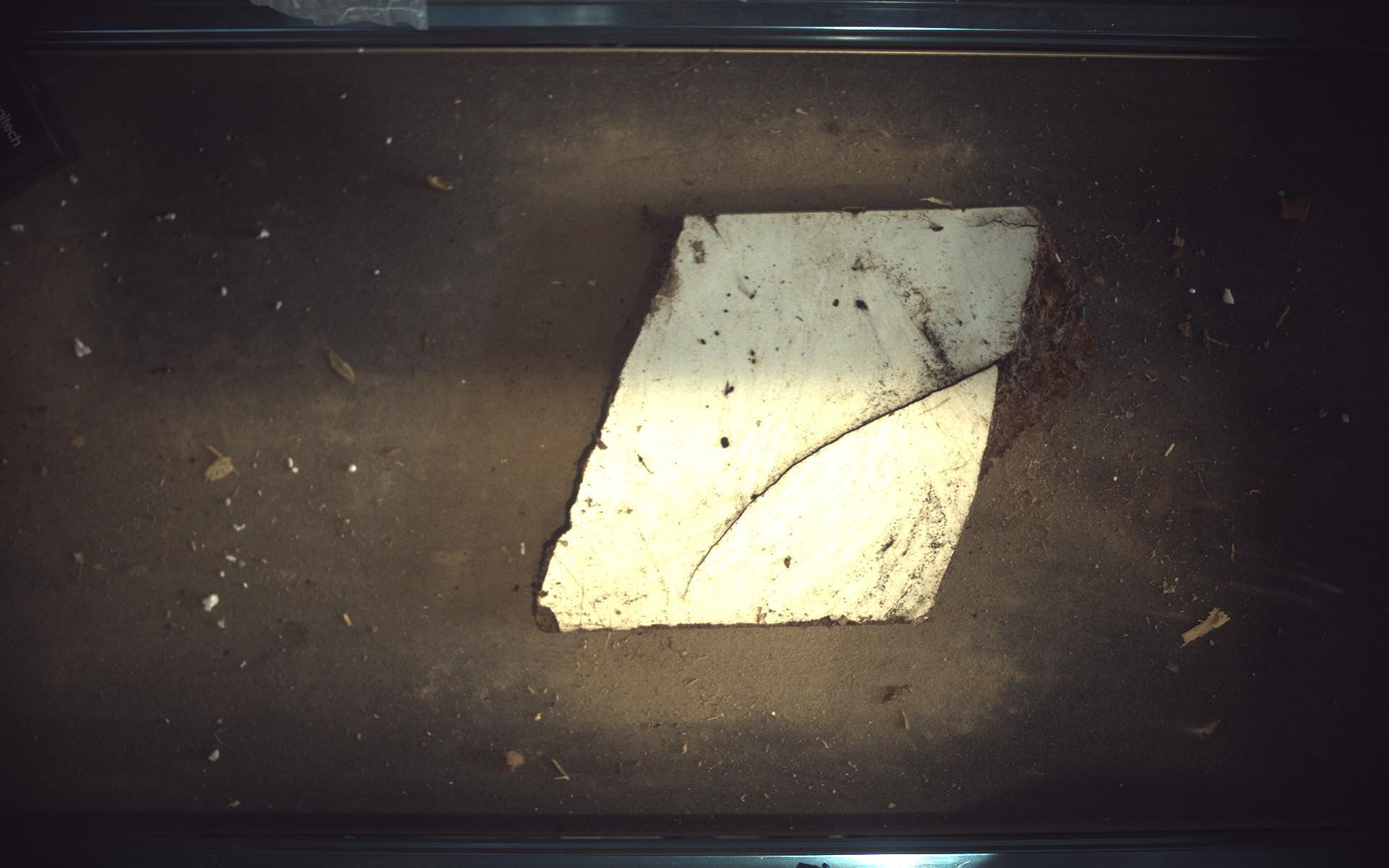wood: (537, 206, 1095, 632)
